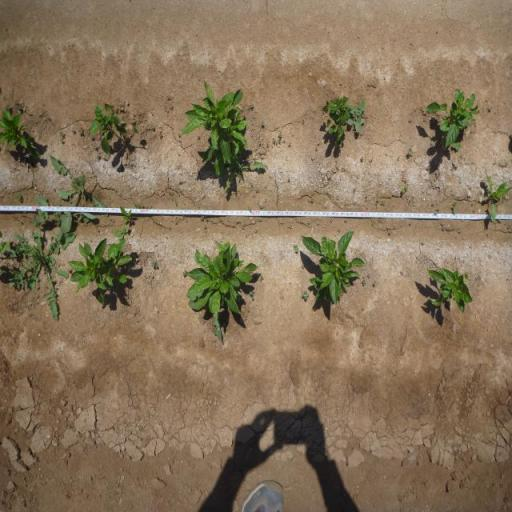plant: (184, 238, 262, 319), (181, 79, 248, 162), (300, 230, 367, 307), (70, 239, 134, 307), (424, 87, 482, 153), (90, 101, 140, 156), (424, 264, 473, 316), (0, 110, 44, 162), (322, 96, 348, 150)
weed: (0, 217, 73, 323), (48, 151, 109, 233), (32, 193, 80, 253), (221, 157, 265, 196), (485, 172, 512, 224), (348, 98, 366, 134), (113, 224, 129, 240), (120, 206, 133, 223), (247, 287, 255, 301), (407, 146, 415, 158), (14, 100, 22, 111), (301, 291, 310, 300), (401, 184, 409, 194), (452, 200, 457, 215), (292, 243, 299, 253), (150, 260, 158, 268), (16, 192, 22, 202), (134, 202, 143, 208), (181, 269, 187, 277), (78, 129, 84, 136), (278, 130, 283, 138), (4, 104, 10, 110), (240, 223, 246, 229), (300, 263, 306, 269), (366, 272, 372, 278), (259, 274, 264, 281), (250, 102, 254, 110), (373, 280, 377, 288), (59, 130, 64, 136), (60, 138, 65, 144), (434, 210, 439, 216), (452, 164, 457, 170), (151, 124, 155, 131), (261, 119, 265, 126), (362, 279, 366, 286), (159, 132, 163, 138), (248, 206, 252, 212), (272, 138, 276, 144), (310, 197, 314, 203), (360, 156, 364, 162), (425, 166, 431, 170), (301, 119, 305, 124), (277, 139, 281, 143), (282, 139, 286, 143), (288, 142, 291, 147), (259, 139, 261, 146)
